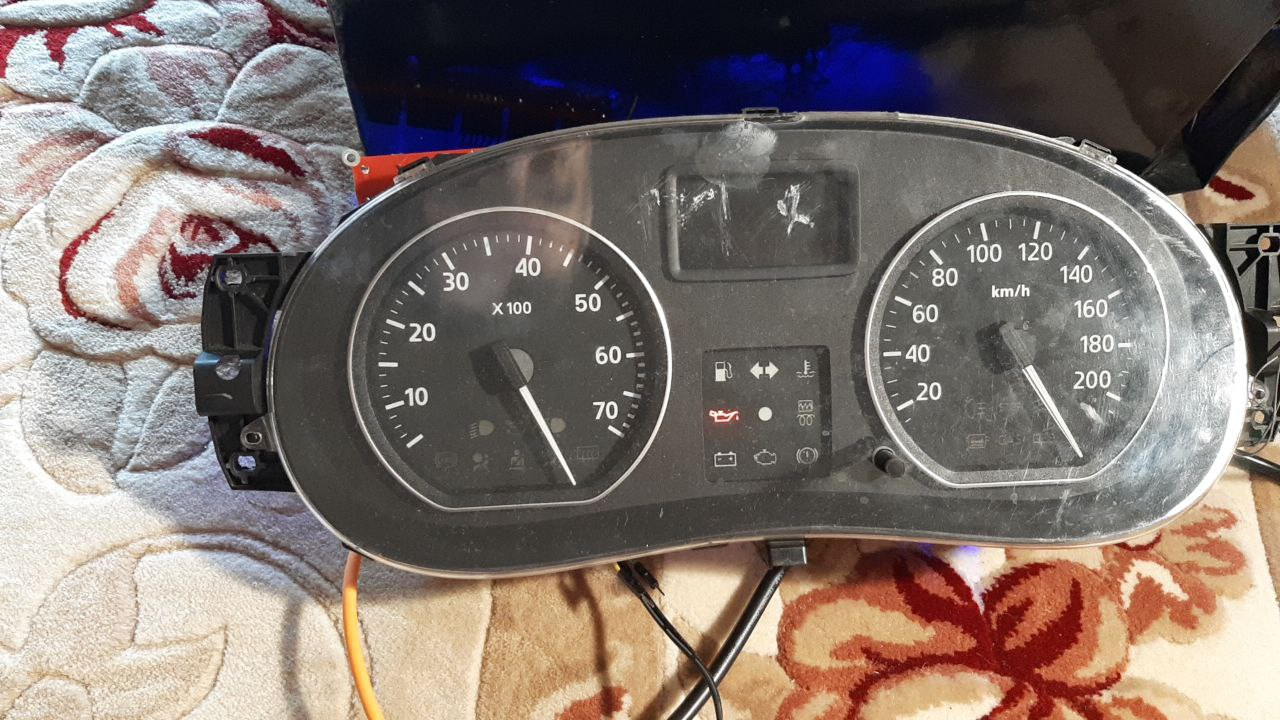oil: (701, 401, 745, 426)
